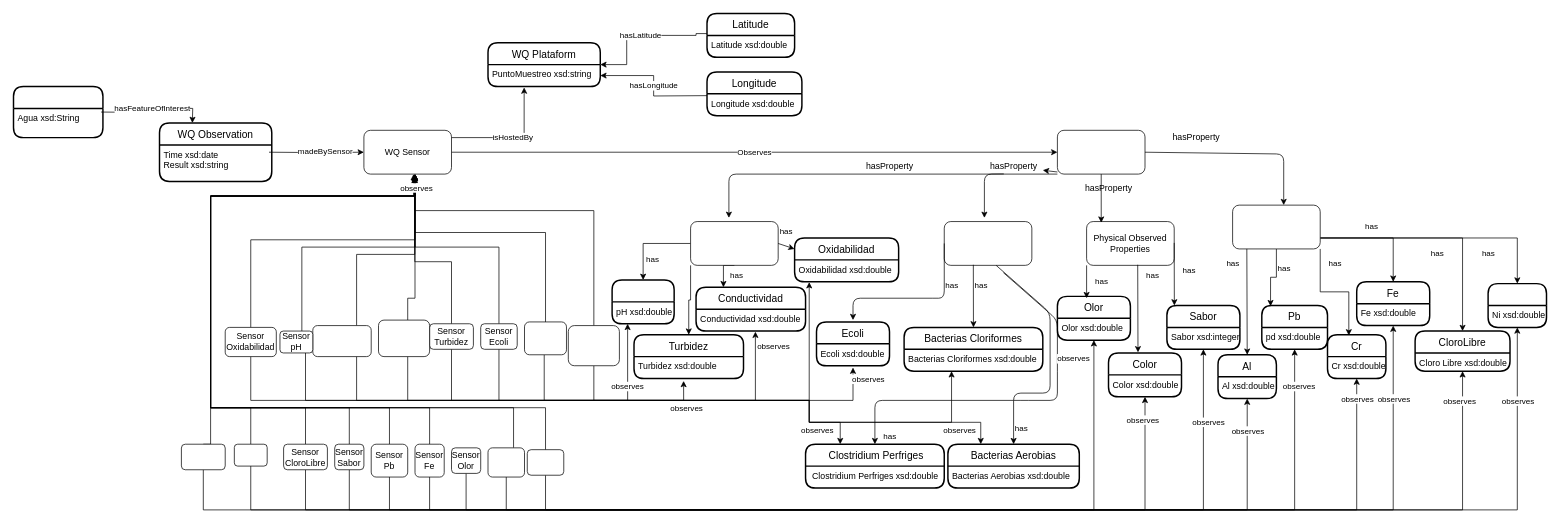
This 1559x529 diagram has some shape labels left out. The shapes that lost their labels are listed below. From the top down, each one's box as (x1, y1, x2, y2) in pixels, then its label:
(12, 85, 103, 138): FeatureOfInterest
(1057, 130, 1145, 174): WQ Properties
(690, 221, 778, 265): Qualitive Samples
(944, 221, 1032, 265): Bactertiological Samples
(1232, 204, 1320, 249): Physical Samples
(611, 279, 675, 324): pH
(1487, 283, 1547, 328): Ni
(312, 325, 371, 357): Sensor Conductividad
(378, 319, 430, 357): Sensor Bacterias Cloriformes
(524, 321, 566, 355): Sensor Bacterias Aerobias
(568, 325, 619, 366): Sensor Clostridium Perfriges
(181, 443, 225, 470): Sensor Color
(234, 443, 267, 466): Sensor Ni
(487, 447, 525, 477): Sensor Al
(527, 449, 564, 475): Sensor Cr
